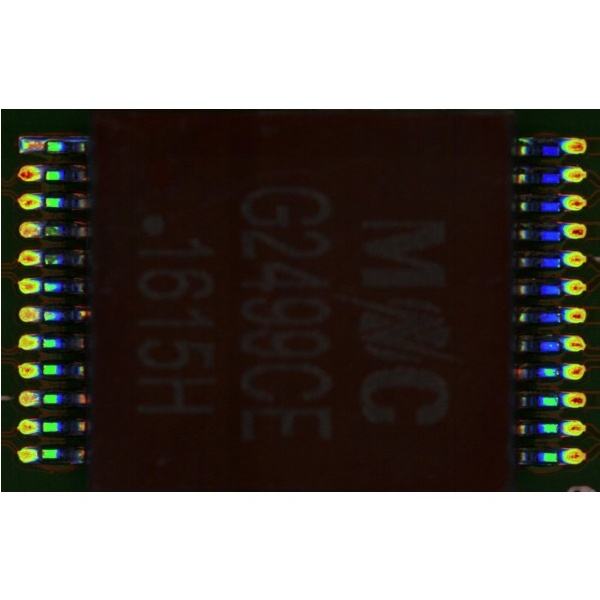Bad_podu: (35, 140, 54, 149)
